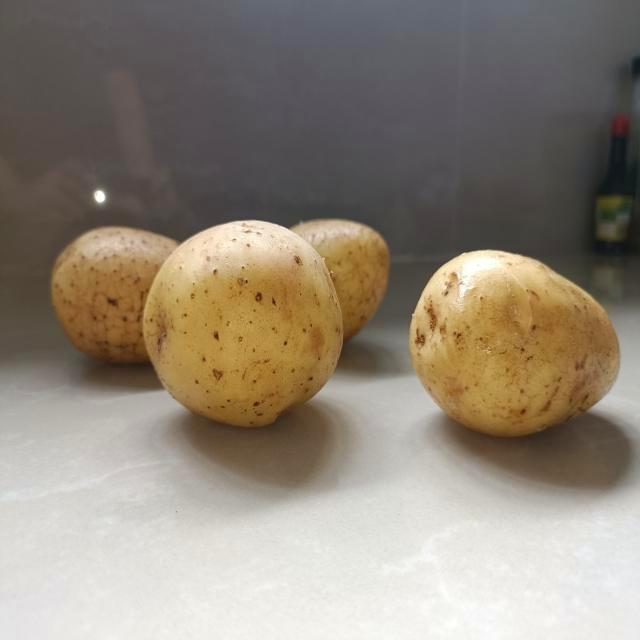potato: (407, 245, 627, 445), (145, 215, 345, 435), (44, 222, 175, 369), (292, 209, 392, 346)
